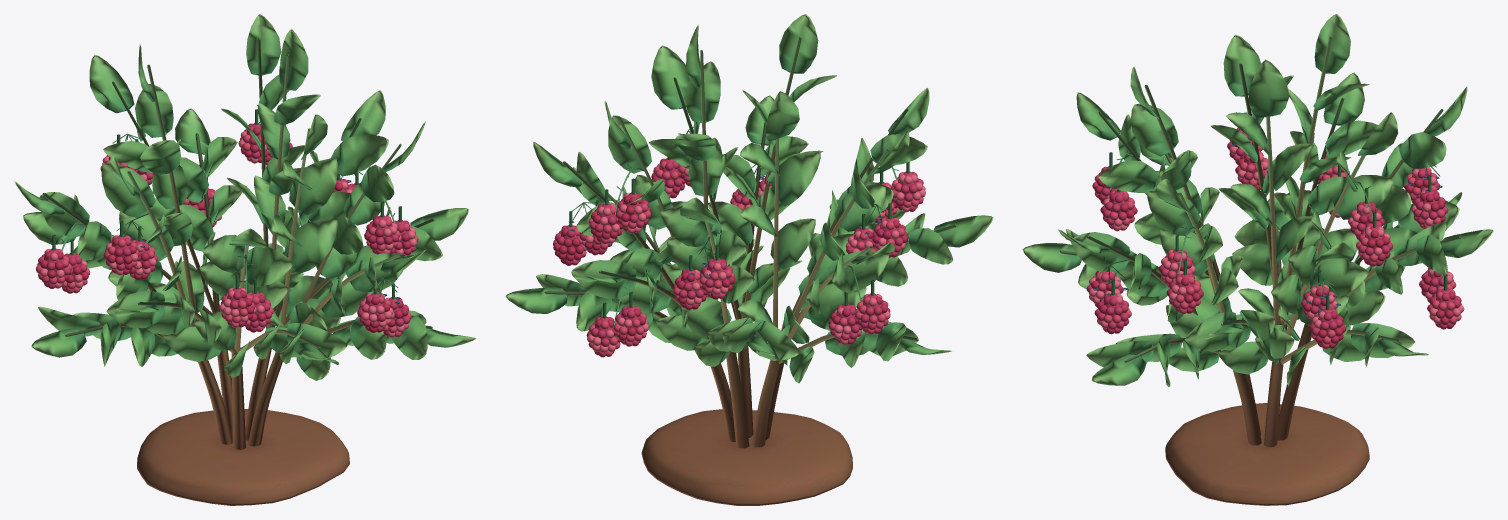
File: raspberry.glb
3 views of the same model, side by side, from view 1: azimuth 30°, elevation 25°; view 2: azimuth 150°, elevation 25°; view 3: azimuth 270°, elevation 25° (orthographic).
Parts seen in each view (by area): view 1: raspberry; view 2: raspberry; view 3: raspberry.
Part boxes in pixels (<box>): raspberry: <box>14,14,476,505</box>; raspberry: <box>505,14,993,505</box>; raspberry: <box>1022,14,1493,505</box>.
Size of the model in its own units: 1.01 by 1 by 1.01.
Materials: 6 (1 with a texture image).
